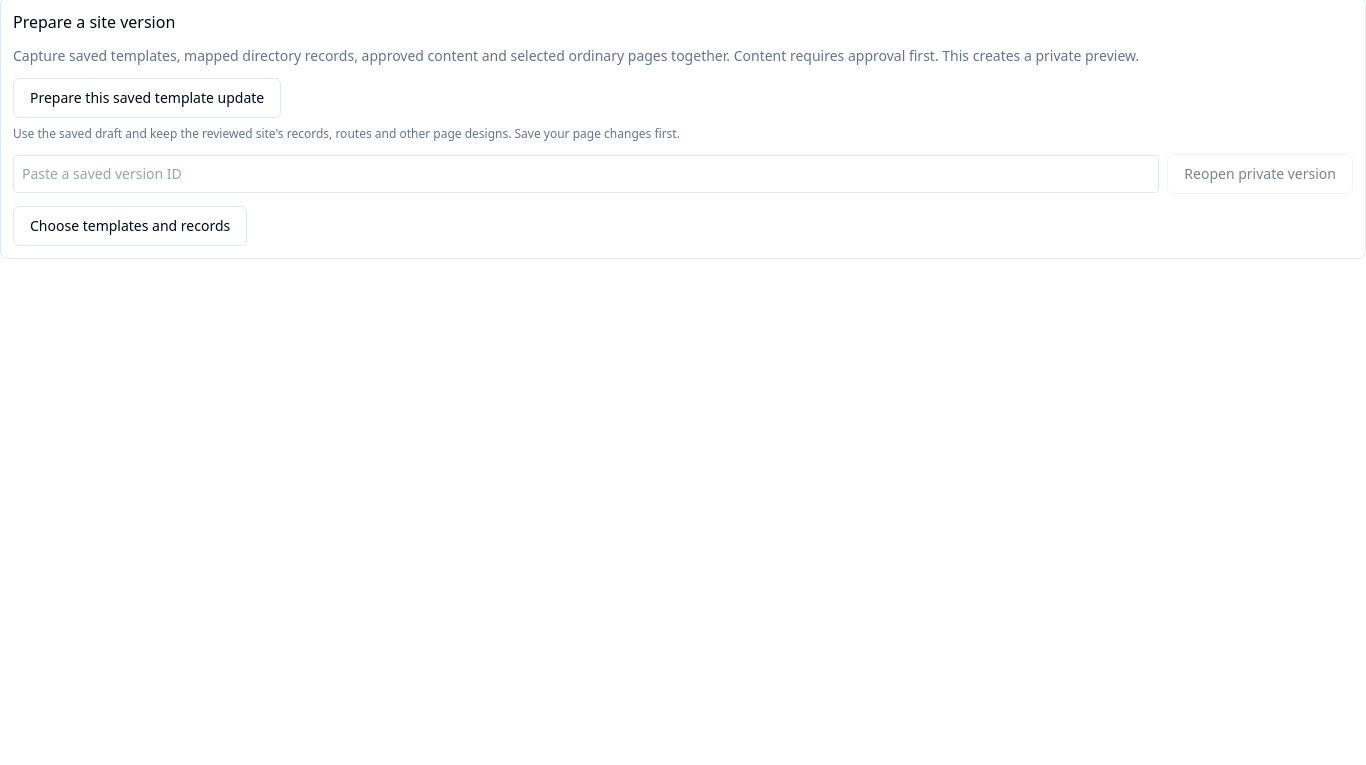
Test: prepares a saved template from the reviewed base without recapturing source records
What coordinates should you click on to do the following:
click the button "Prepare this saved template update"
I would click on:
 (147, 98)
Its box is left=13, top=78, right=281, bottom=118.
(page scrolled)
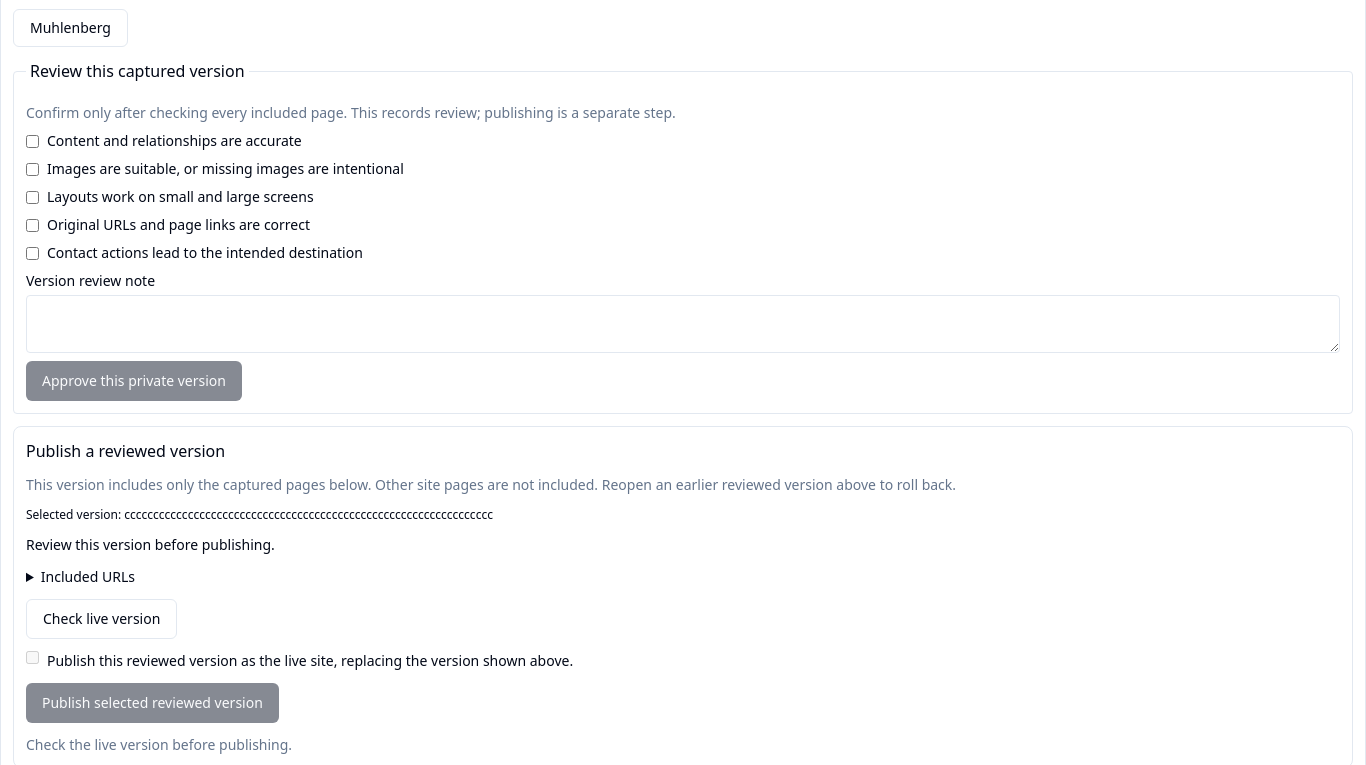
Expected: the button "Approve this private version" is disabled, left=26, top=361, right=242, bottom=401
